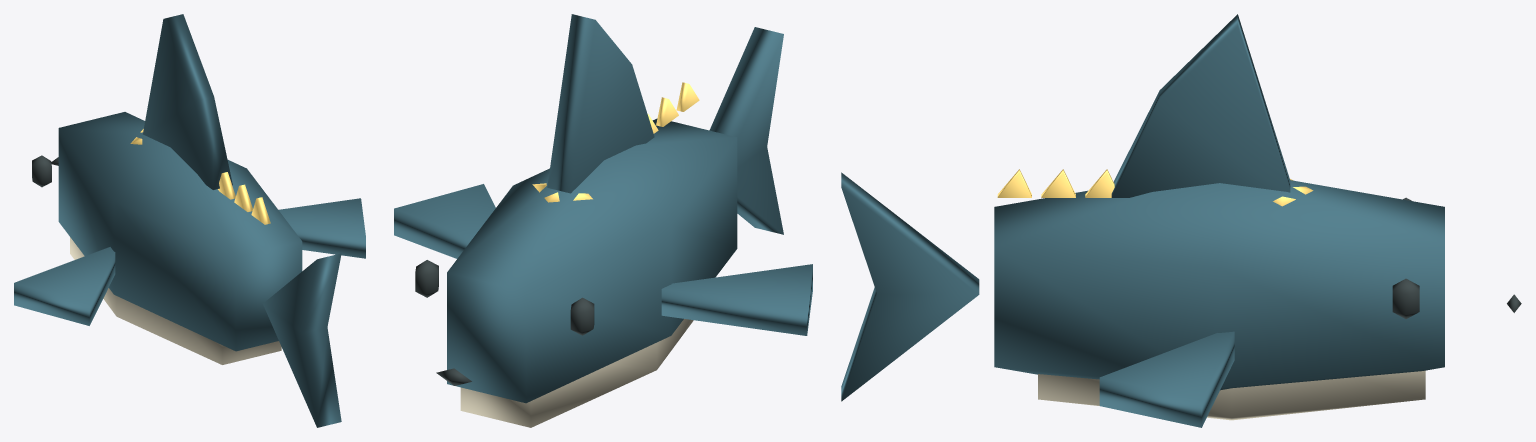
Rendered from fish_giant_tuna_low.glb.
3 views of the same model, side by side, from view 1: azimuth 30°, elevation 25°; view 2: azimuth 150°, elevation 25°; view 3: azimuth 270°, elevation 25° (orthographic). The views are drawn at different scales.
Bounding box in the file's own units: 0.898 × 0.7788 × 1.2.
